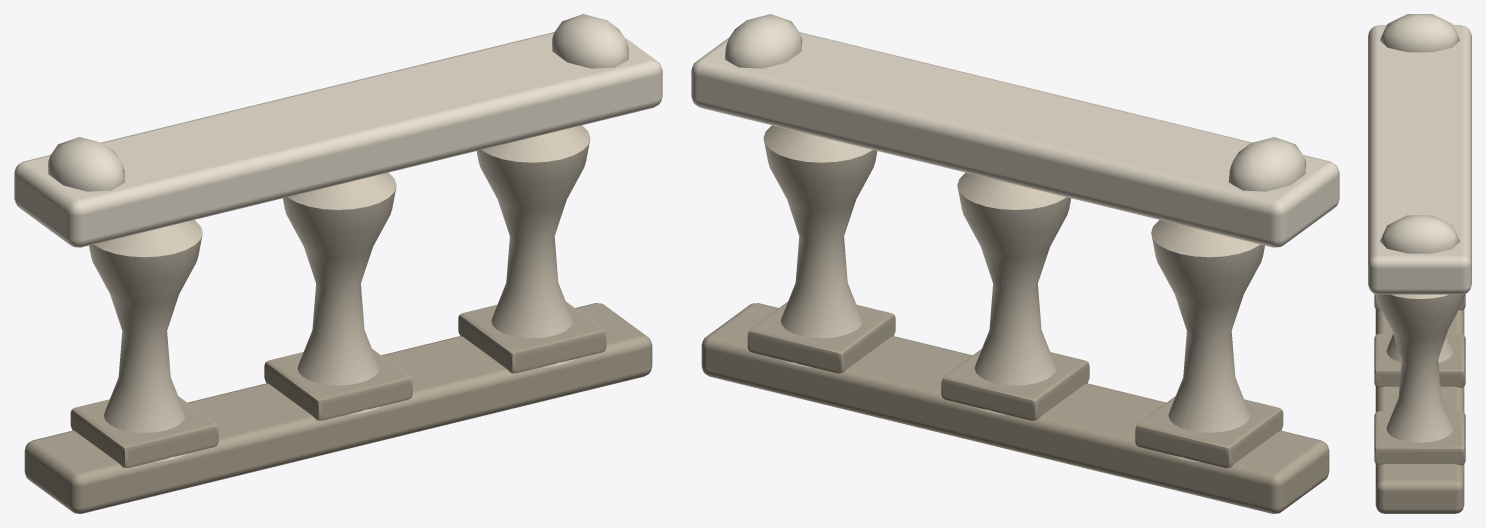
File: balustrade.glb
3 renders of one model, left to right at view 1: azimuth 30°, elevation 25°; view 2: azimuth 150°, elevation 25°; view 3: azimuth 270°, elevation 25°, orthographic. The views are drawn at different scales.
Visible parts, largest first — view 1: balustrade; view 2: balustrade; view 3: balustrade.
Boxes of the visible parts, <box> form: balustrade: <box>14,14,662,513</box>; balustrade: <box>691,14,1339,513</box>; balustrade: <box>1368,14,1471,513</box>.
Bounding box in the file's own units: 0.92 × 0.514 × 0.17.
